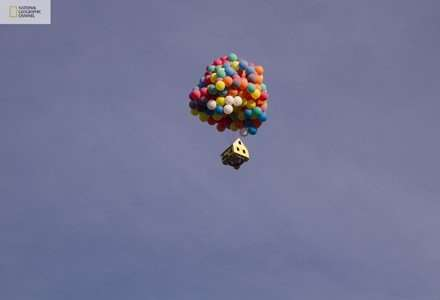Balloon: (206, 99, 217, 110), (223, 76, 233, 88), (215, 80, 225, 91), (190, 91, 201, 101), (239, 59, 249, 70), (207, 84, 217, 95), (247, 82, 256, 93), (224, 104, 233, 114), (233, 96, 242, 106), (244, 110, 253, 119), (225, 95, 233, 105), (254, 107, 262, 117), (256, 65, 264, 74), (217, 123, 225, 131), (249, 126, 257, 134), (230, 53, 238, 61), (241, 127, 248, 136)
